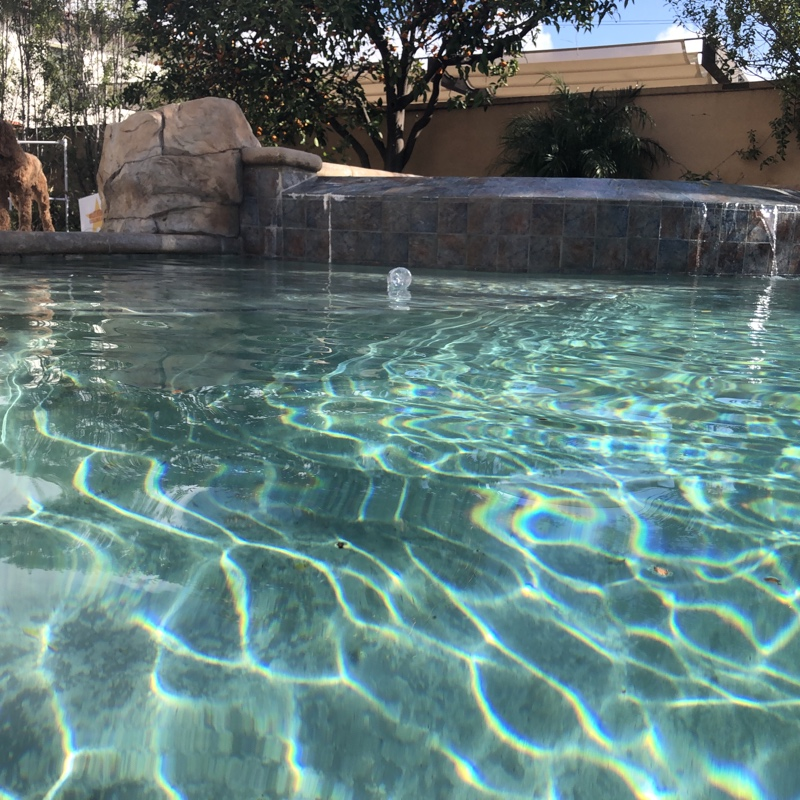Plastic Bottle: (383, 266, 413, 293)
